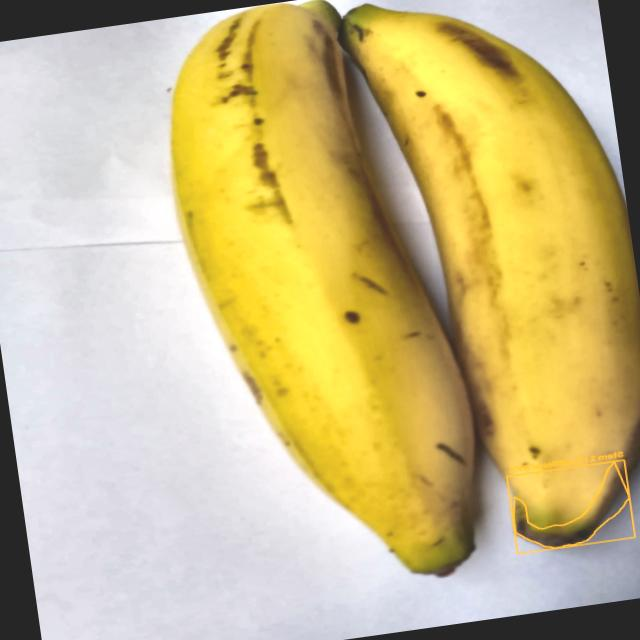Fruit-Stem-Detection: (505, 464, 615, 553), (378, 512, 468, 574)
